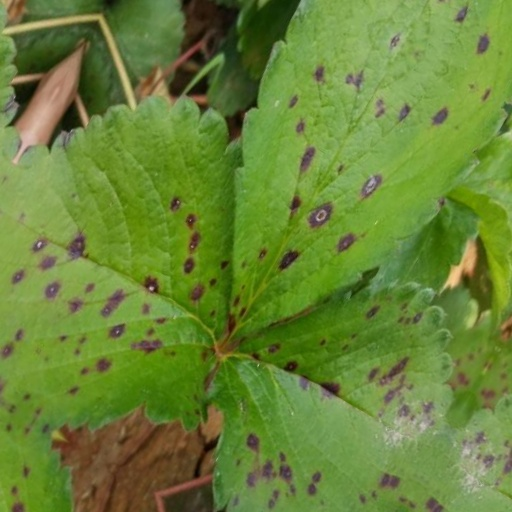Leaf Spot: (0, 148, 298, 511), (163, 0, 404, 342), (276, 195, 511, 511), (430, 176, 511, 299), (396, 428, 511, 511), (426, 6, 511, 103)
